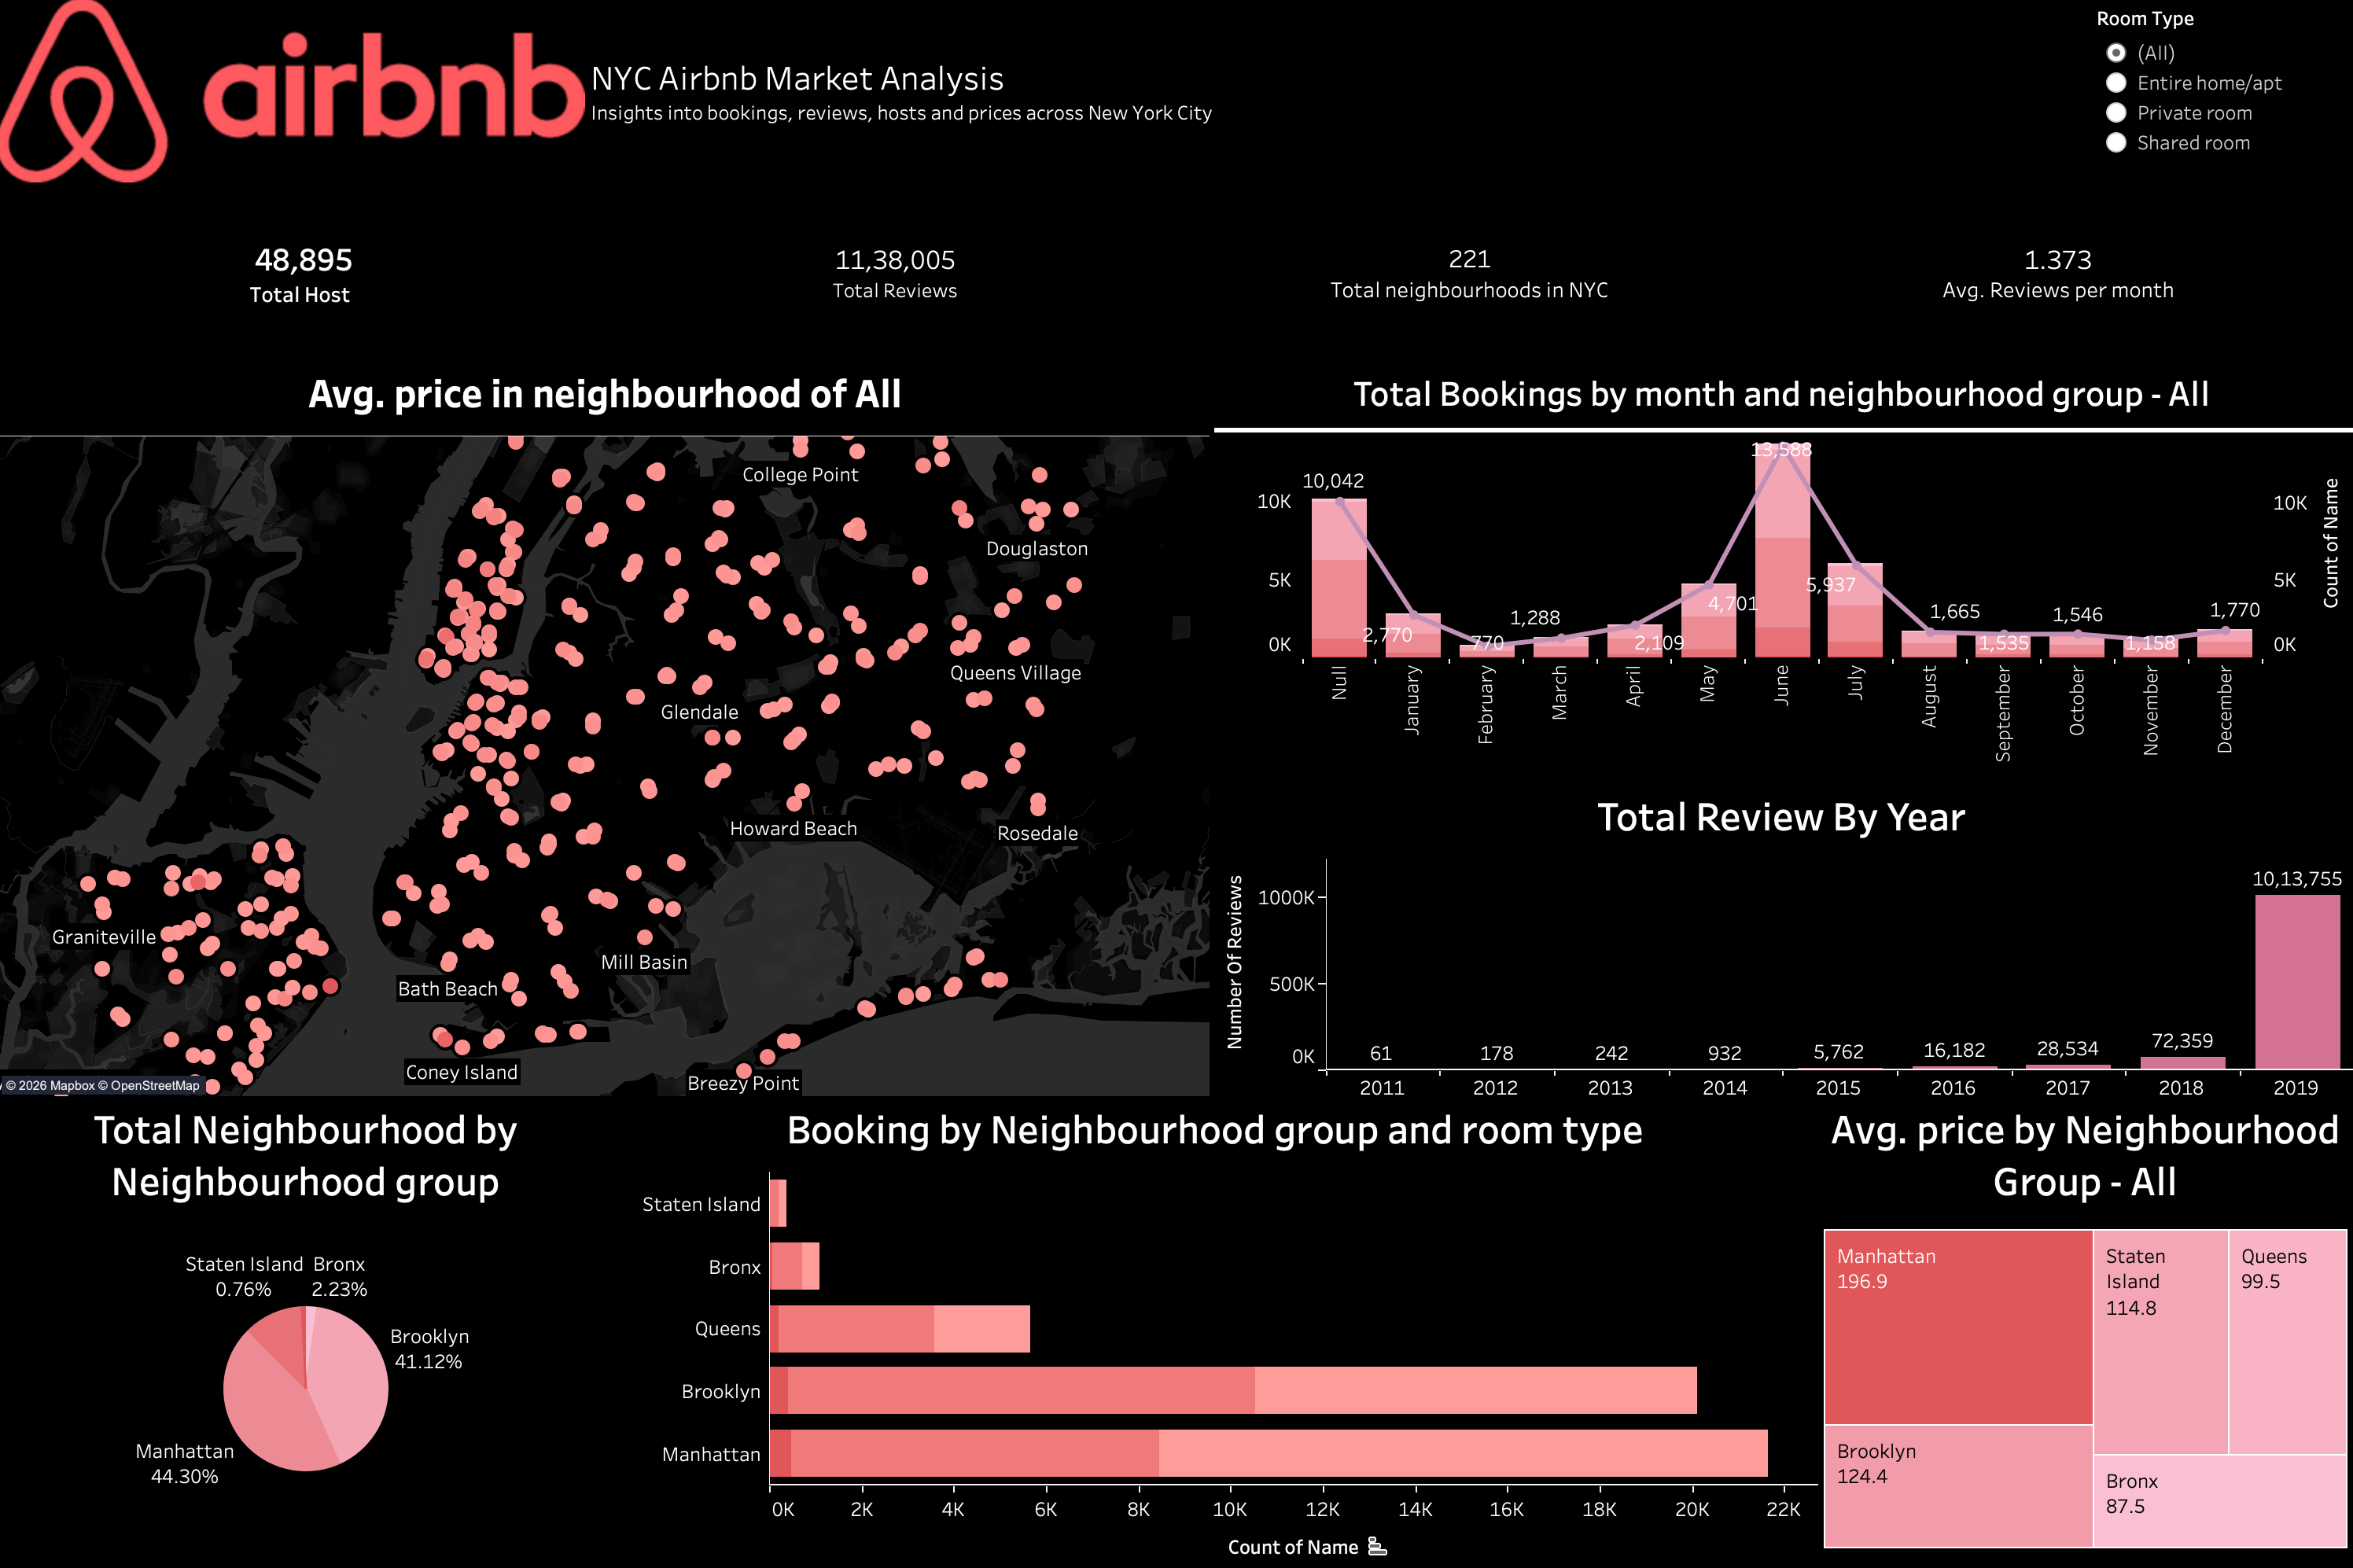

Layout of this report page (visuals, bound fields, positions):
{"tool":"tableau","page":{"name":"Dashboard 1","canvas":[1000,1000],"units":"permille","ordinal":0},"visuals":[{"type":"image","param":"Image/abnb.jpeg","box":[0.8,1,213.8,110.4]},{"type":"text","box":[214.7,1,783.7,110.4]},{"type":"legend","title":"Sheet 1","param":"[federated.1woxtl904stnug141kqks08z9z7a].[avg:price:qk]","box":[5.1,8,989.8,65]},{"type":"legend","title":"Sheet 2","param":"[federated.1woxtl904stnug141kqks08z9z7a].[none:neighbourhood_group:nk]","box":[5.1,73,989.8,126]},{"type":"worksheet","title":"Sheet 10","mark":"Automatic","box":[267.1,111.5,190.4,94.8]},{"type":"worksheet","title":"Sheet 11","mark":"Automatic","box":[457.5,111.5,270.4,94.8]},{"type":"worksheet","title":"Sheet 13","mark":"Automatic","box":[727.9,111.5,270.4,94.8]},{"type":"legend","title":"Sheet 5","param":"[federated.1woxtl904stnug141kqks08z9z7a].[none:room_type:nk]","box":[5.1,199,989.8,86]},{"type":"worksheet","title":"Sheet 1","mark":"Automatic","rows":["latitude"],"cols":["longitude"],"box":[0,206.2,459.4,482.3]},{"type":"worksheet","title":"Sheet 2","mark":"Bar","rows":["name","name"],"cols":["last_review"],"box":[459.4,206.2,538,268.1]},{"type":"filter","title":"Sheet 5","param":"[federated.1woxtl904stnug141kqks08z9z7a].[none:room_type:nk]","box":[5.1,285,989.8,108]},{"type":"filter","title":"Sheet 6","param":"[federated.1woxtl904stnug141kqks08z9z7a].[none:room_type:nk]","box":[5.1,393,989.8,108]},{"type":"worksheet","title":"Sheet 6","mark":"Bar","rows":["number_of_reviews"],"cols":["last_review"],"box":[459.4,474.4,538,213.1]},{"type":"filter","title":"Sheet 3","param":"[federated.1woxtl904stnug141kqks08z9z7a].[none:room_type:nk]","box":[5.1,501,989.8,108]},{"type":"worksheet","title":"Sheet 3","mark":"Pie","box":[0.6,688,270.3,311]},{"type":"worksheet","title":"Sheet 5","mark":"Automatic","rows":["neighbourhood_group"],"cols":["name"],"box":[270.9,688,502.5,311]},{"type":"worksheet","title":"Sheet 7","mark":"Automatic","box":[773.4,688,224,311]}]}

Visuals, with their boxes on the dashboard's canvas, which has no fixed pixel size, in thousandths of its width and height (x1, y1, x2, y2). These are canvas units, not pixel positions in the 2353x1568 screenshot, which may show the page scaled, cropped or inside an application window:
image: box(1, 1, 215, 111)
text: box(215, 1, 998, 111)
"Sheet 1" legend: box(5, 8, 995, 73)
"Sheet 2" legend: box(5, 73, 995, 199)
"Sheet 10" worksheet: box(267, 112, 458, 206)
"Sheet 11" worksheet: box(458, 112, 728, 206)
"Sheet 13" worksheet: box(728, 112, 998, 206)
"Sheet 5" legend: box(5, 199, 995, 285)
"Sheet 1" worksheet: box(0, 206, 459, 688)
"Sheet 2" worksheet (Bar marks): box(459, 206, 997, 474)
"Sheet 5" filter: box(5, 285, 995, 393)
"Sheet 6" filter: box(5, 393, 995, 501)
"Sheet 6" worksheet (Bar marks): box(459, 474, 997, 688)
"Sheet 3" filter: box(5, 501, 995, 609)
"Sheet 3" worksheet (Pie marks): box(1, 688, 271, 999)
"Sheet 5" worksheet: box(271, 688, 773, 999)
"Sheet 7" worksheet: box(773, 688, 997, 999)
